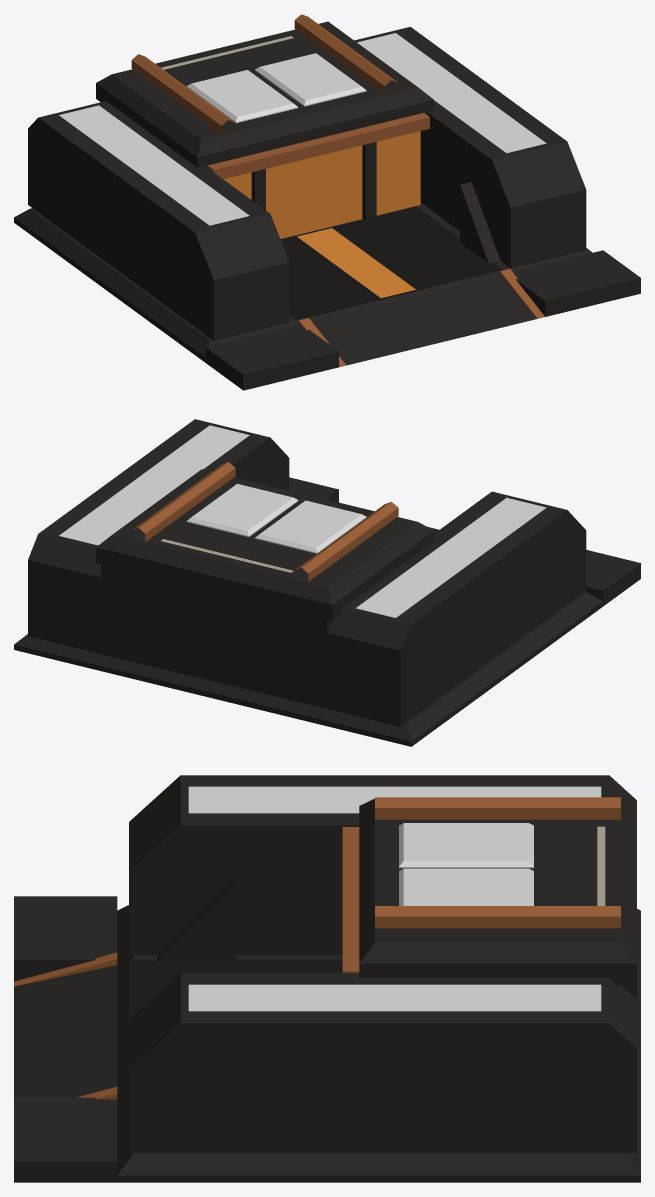
Rendered from str_t1_fac_land.b8e20b7c.raw.glb.
3 views of the same model, one above another, from view 1: azimuth 30°, elevation 25°; view 2: azimuth 150°, elevation 25°; view 3: azimuth 270°, elevation 25° (orthographic). The views are drawn at different scales.
Visible parts, largest first — view 1: lod0; view 2: lod0; view 3: lod0.
Part boxes in pixels (box(x1,y1,x2,y2)): lod0: box(14, 14, 640, 390); lod0: box(14, 419, 640, 746); lod0: box(14, 775, 640, 1182).
Size of what is drawn, in the model's own units: 4.94 by 1.73 by 4.94.
